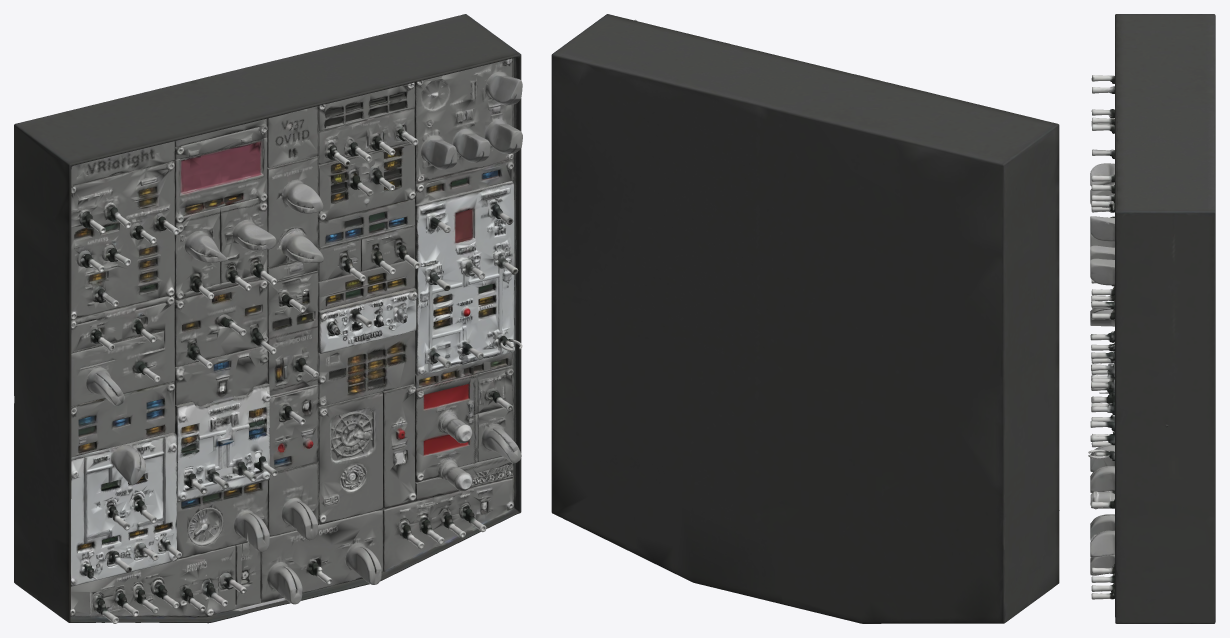
The model's file is overhead.glb.
The picture shows the model from 3 angles, left to right: view 1: azimuth 30°, elevation 25°; view 2: azimuth 150°, elevation 25°; view 3: azimuth 270°, elevation 25°; orthographic projection. The views are drawn at different scales.
Parts seen in each view (by area): view 1: tripo_node_cc988fb4-2729-43e7-9bc2-fa718e1d0886; view 2: tripo_node_cc988fb4-2729-43e7-9bc2-fa718e1d0886; view 3: tripo_node_cc988fb4-2729-43e7-9bc2-fa718e1d0886.
Part boxes in pixels (<box>): tripo_node_cc988fb4-2729-43e7-9bc2-fa718e1d0886: <box>14,14,522,623</box>; tripo_node_cc988fb4-2729-43e7-9bc2-fa718e1d0886: <box>551,14,1059,623</box>; tripo_node_cc988fb4-2729-43e7-9bc2-fa718e1d0886: <box>1088,14,1215,623</box>.
Size of the model in its own units: 0.9786 by 0.9782 by 0.2541.
1 material, 1 textured.
